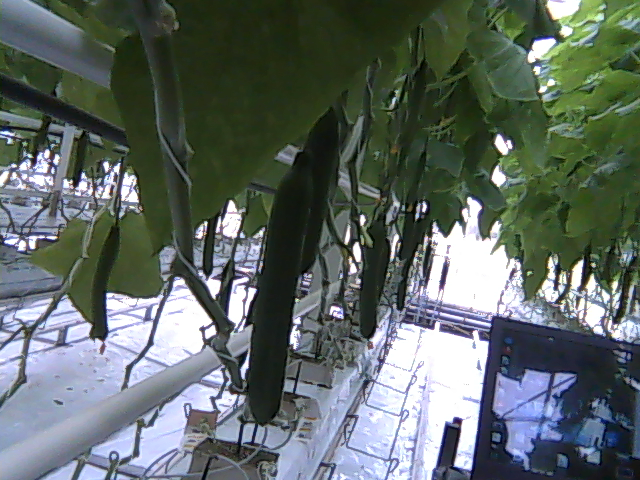concombre: (241, 135, 316, 426), (301, 107, 340, 278)
